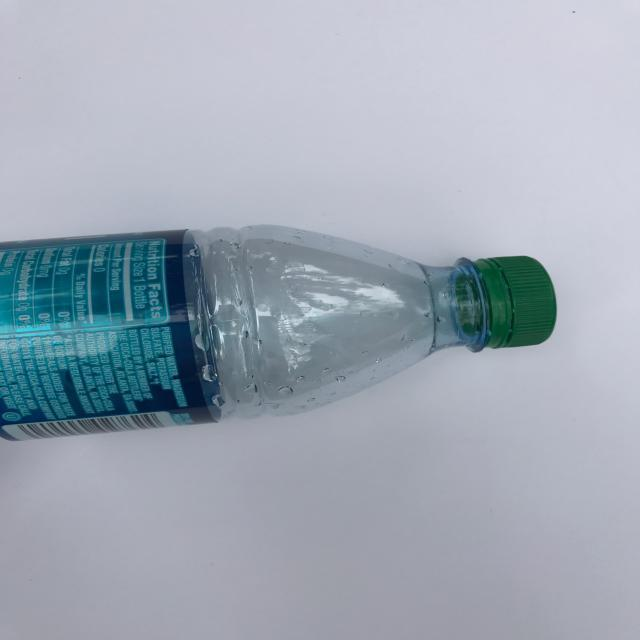plastic: (2, 219, 556, 446)
